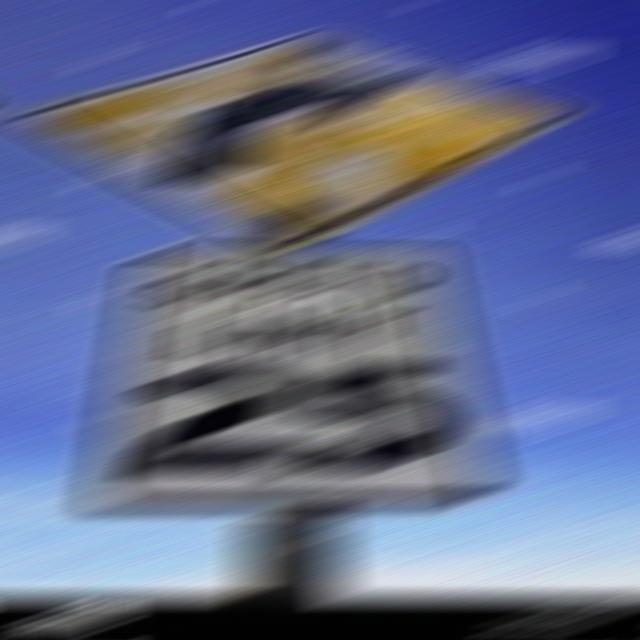speedLimit25: (78, 246, 514, 506)
